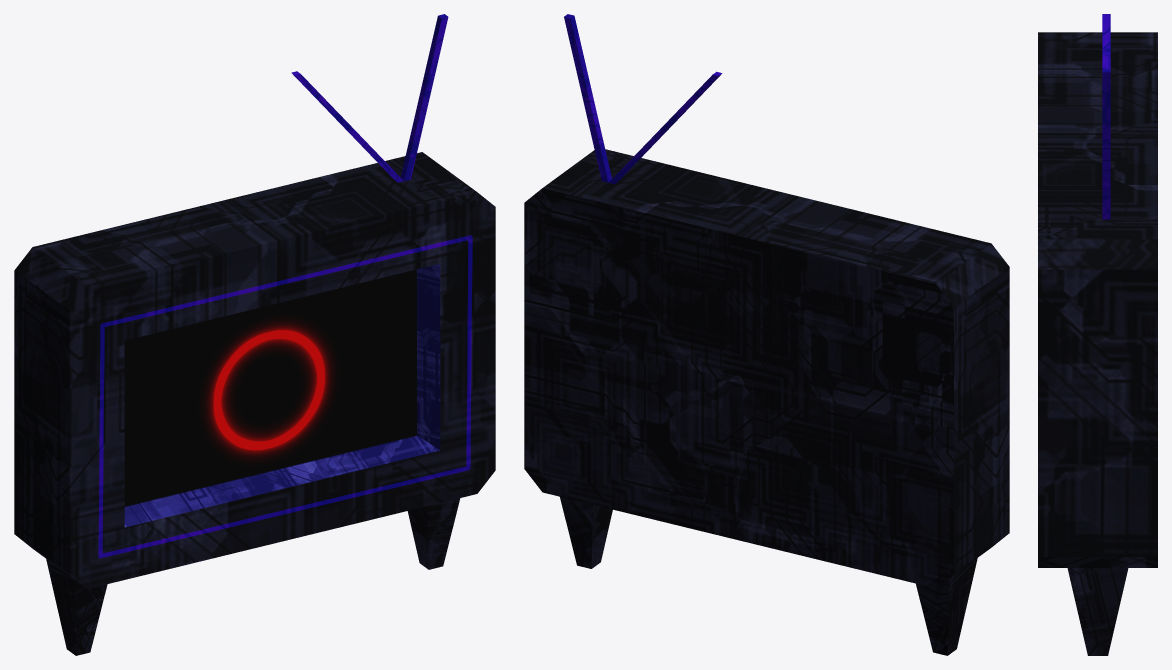
Rendered from enemy.fbx.
The picture shows the model from 3 angles, left to right: view 1: azimuth 30°, elevation 25°; view 2: azimuth 150°, elevation 25°; view 3: azimuth 270°, elevation 25°; orthographic projection. The views are drawn at different scales.
Visible parts, largest first — view 1: enemy:headusOBJexport; view 2: enemy:headusOBJexport; view 3: enemy:headusOBJexport.
Part boxes in pixels (x1,y1,x2,y2): enemy:headusOBJexport: [14, 14, 495, 655]; enemy:headusOBJexport: [524, 14, 1009, 655]; enemy:headusOBJexport: [1038, 14, 1157, 655].
Bounding box in the file's own units: 1.48 × 1.8 × 0.3311.
Materials: 1 (1 with a texture image).
